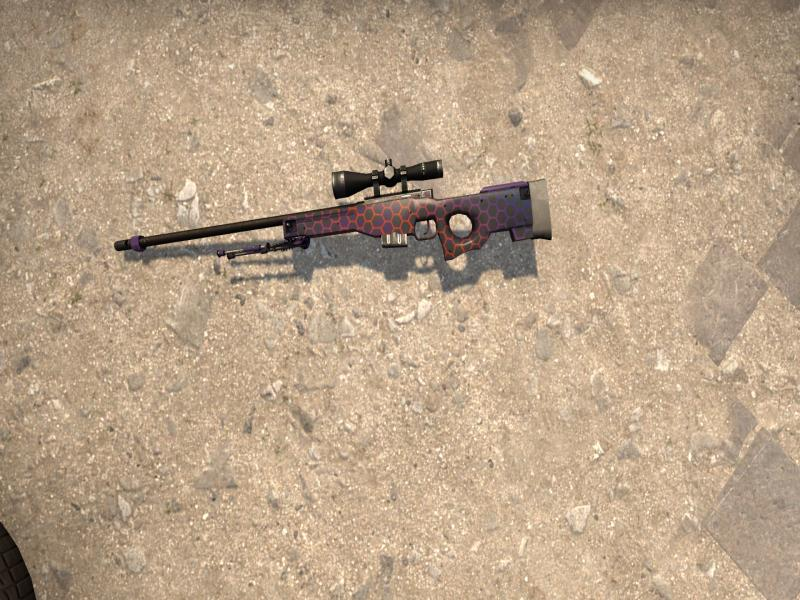AWP: (114, 158, 552, 259)
